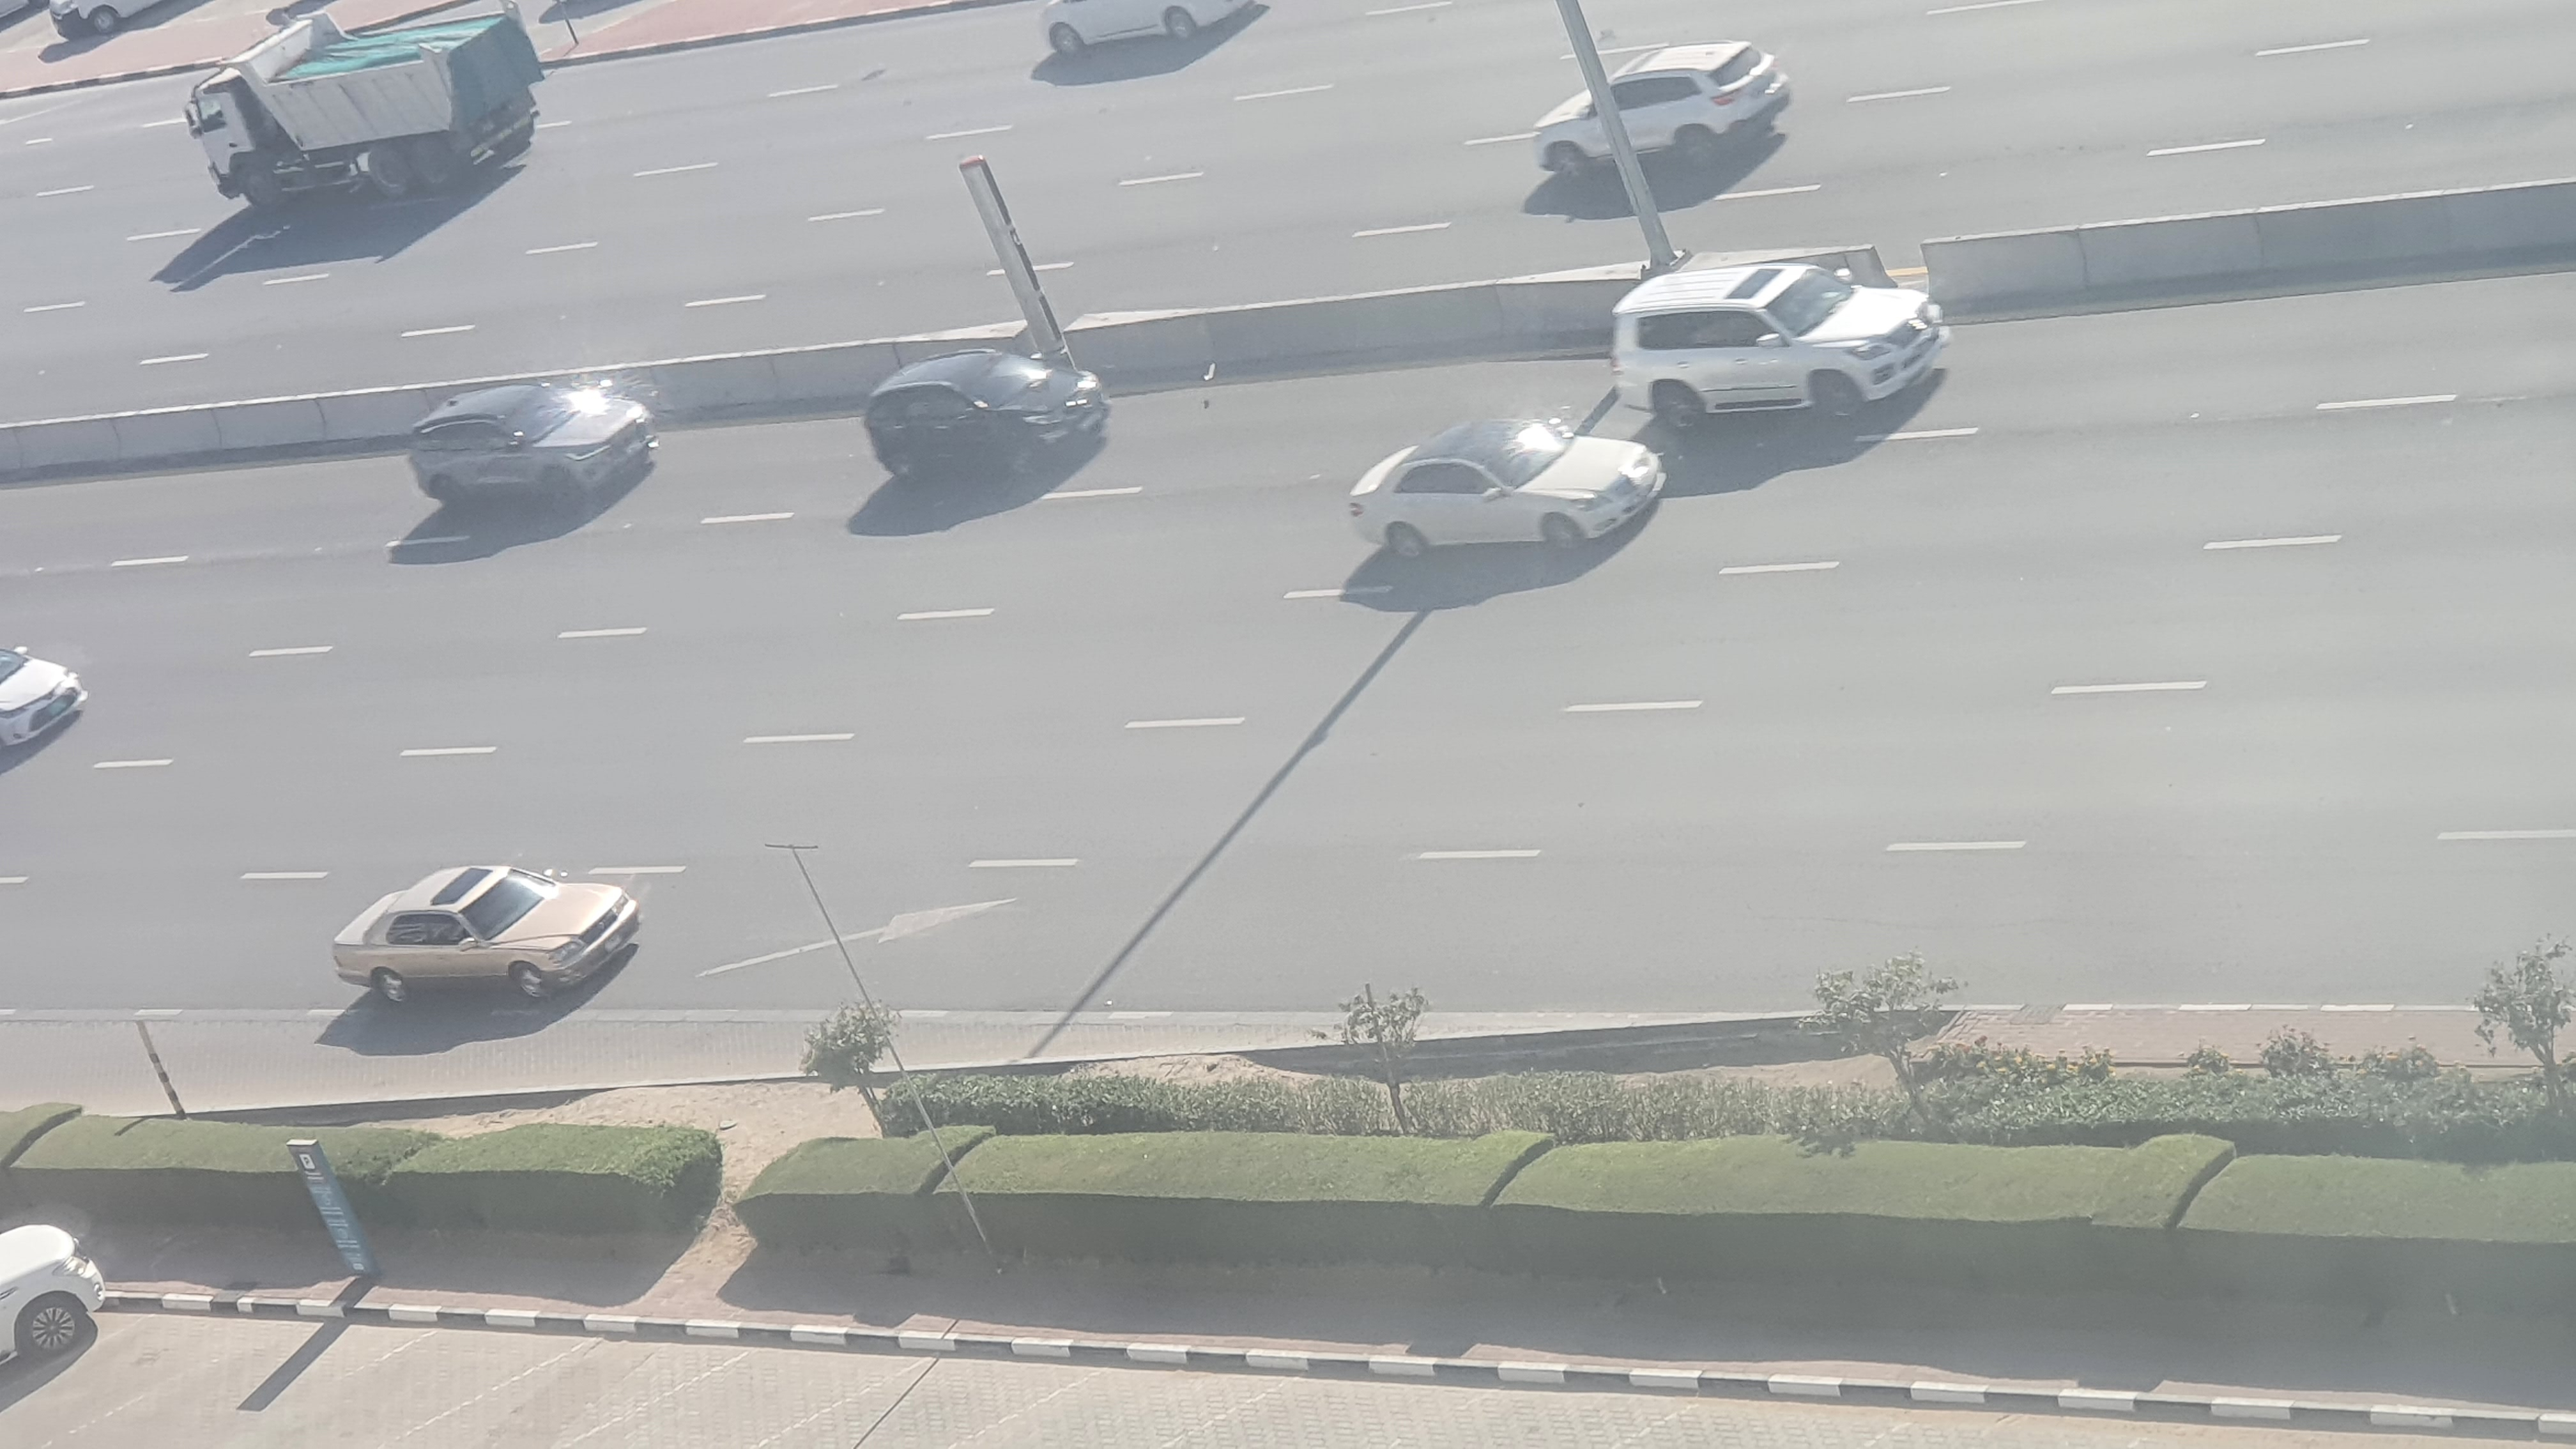NotSunroof: (865, 343, 1115, 481)
Sunroof: (1614, 255, 1953, 430), (1353, 416, 1665, 563), (326, 865, 646, 1003), (410, 384, 665, 506)
